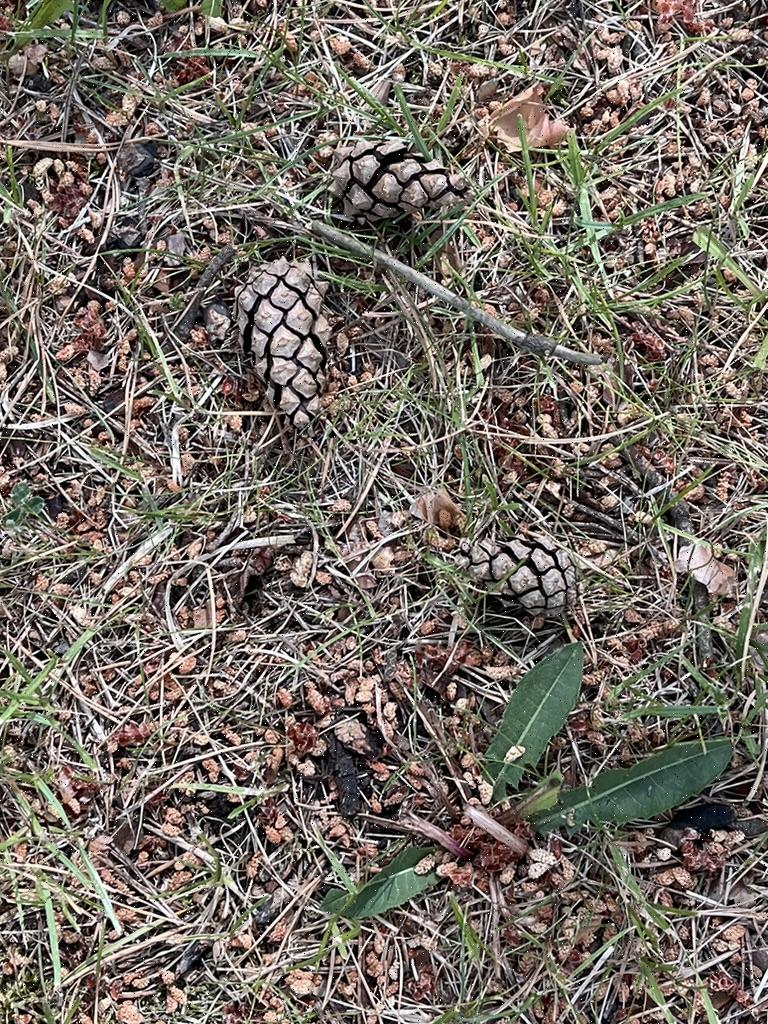pine: (451, 510, 614, 643), (234, 253, 354, 433), (321, 128, 473, 253)
